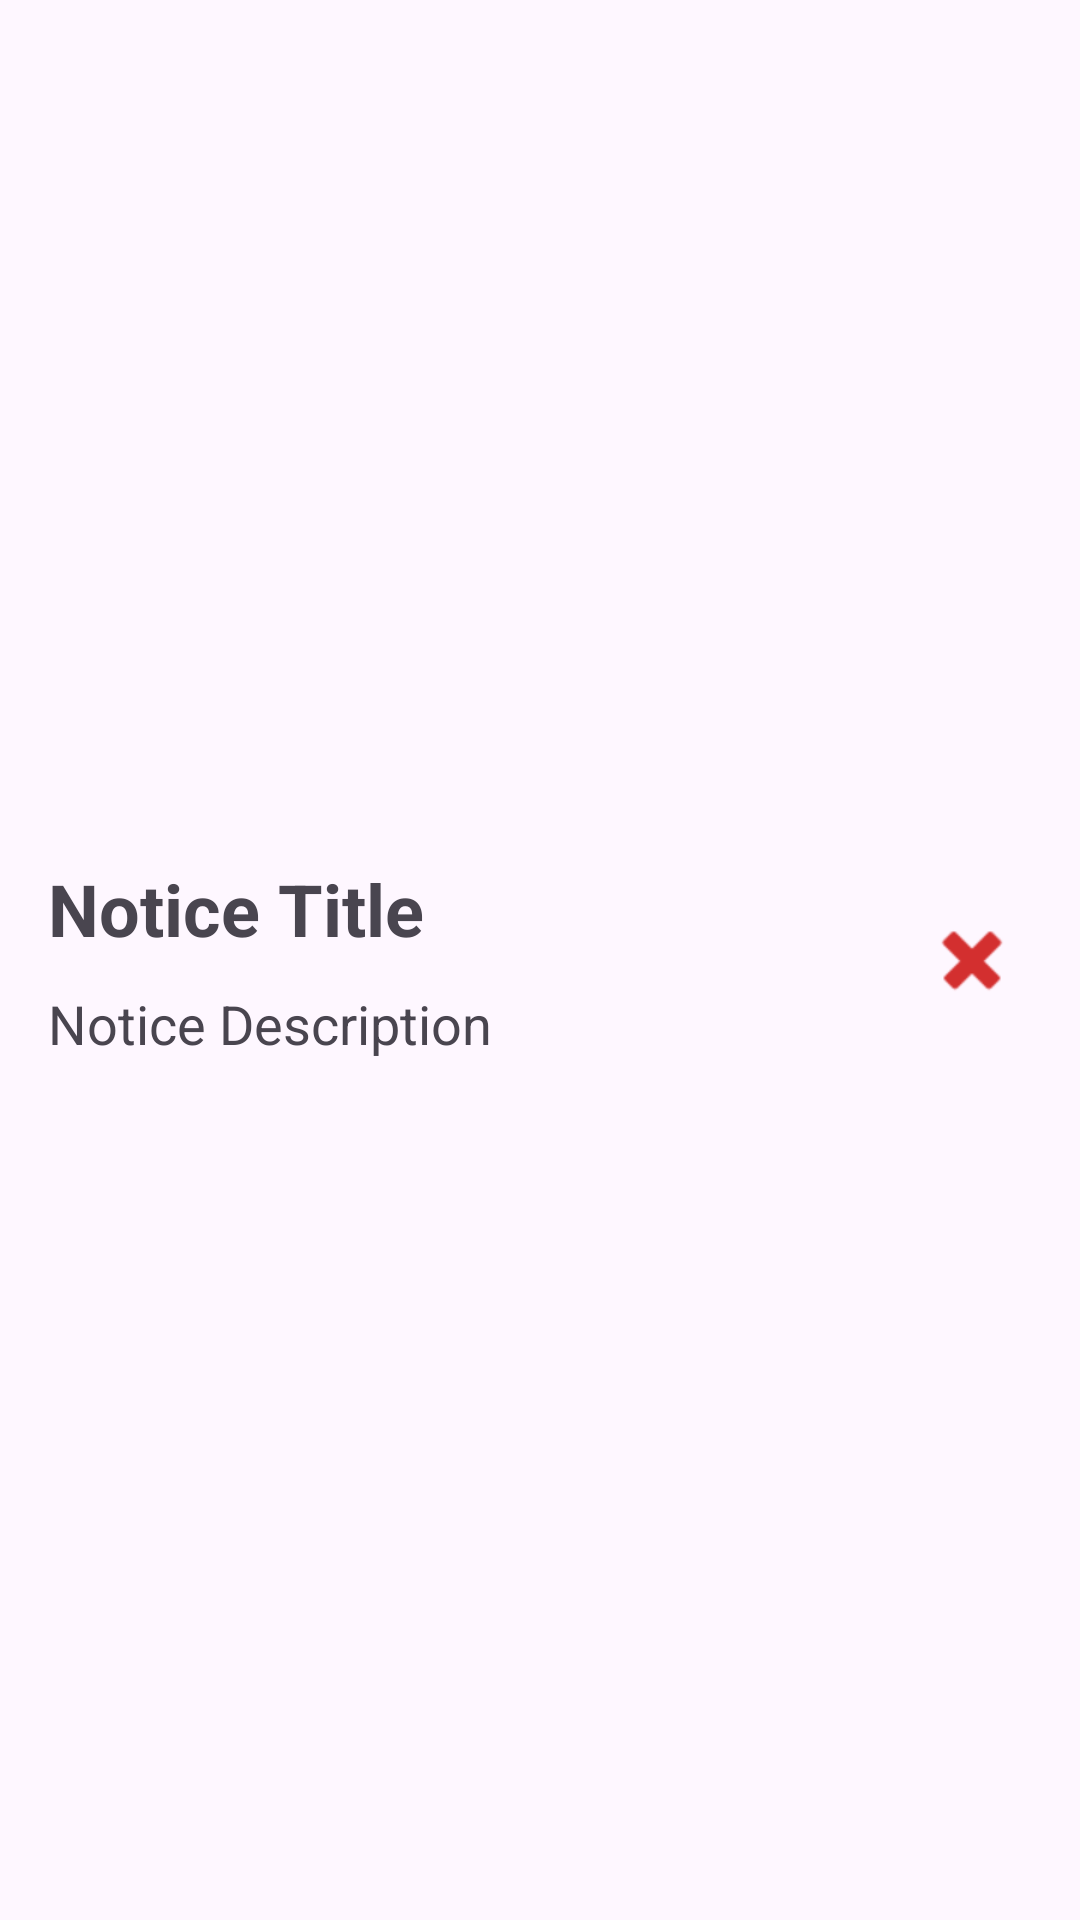

Point at icon controls on the screen. Image size 1080 x 1920, points as (x,y).
Delete Notice: (972,960)
